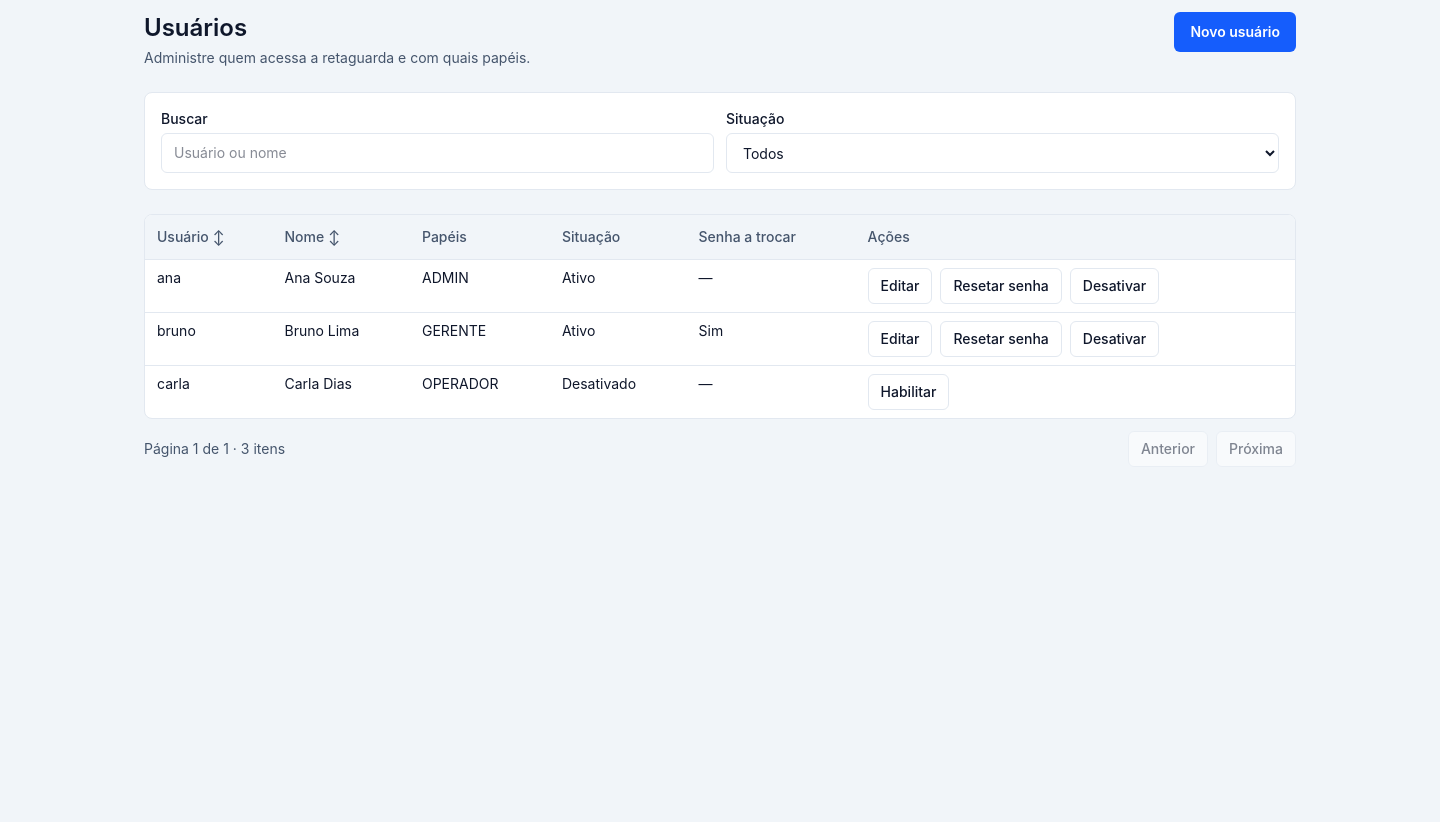
Test case: UsersPage — desativar e habilitar › mostra o 409 do último ADMIN ativo e recarrega a lista
Expected: the cell "ana" is shown, x1=145 y1=260 x2=272 y2=312
Click the button with aria-label "Desativar ana".
click(1114, 286)  # box x1=1070 y1=268 x2=1159 y2=304
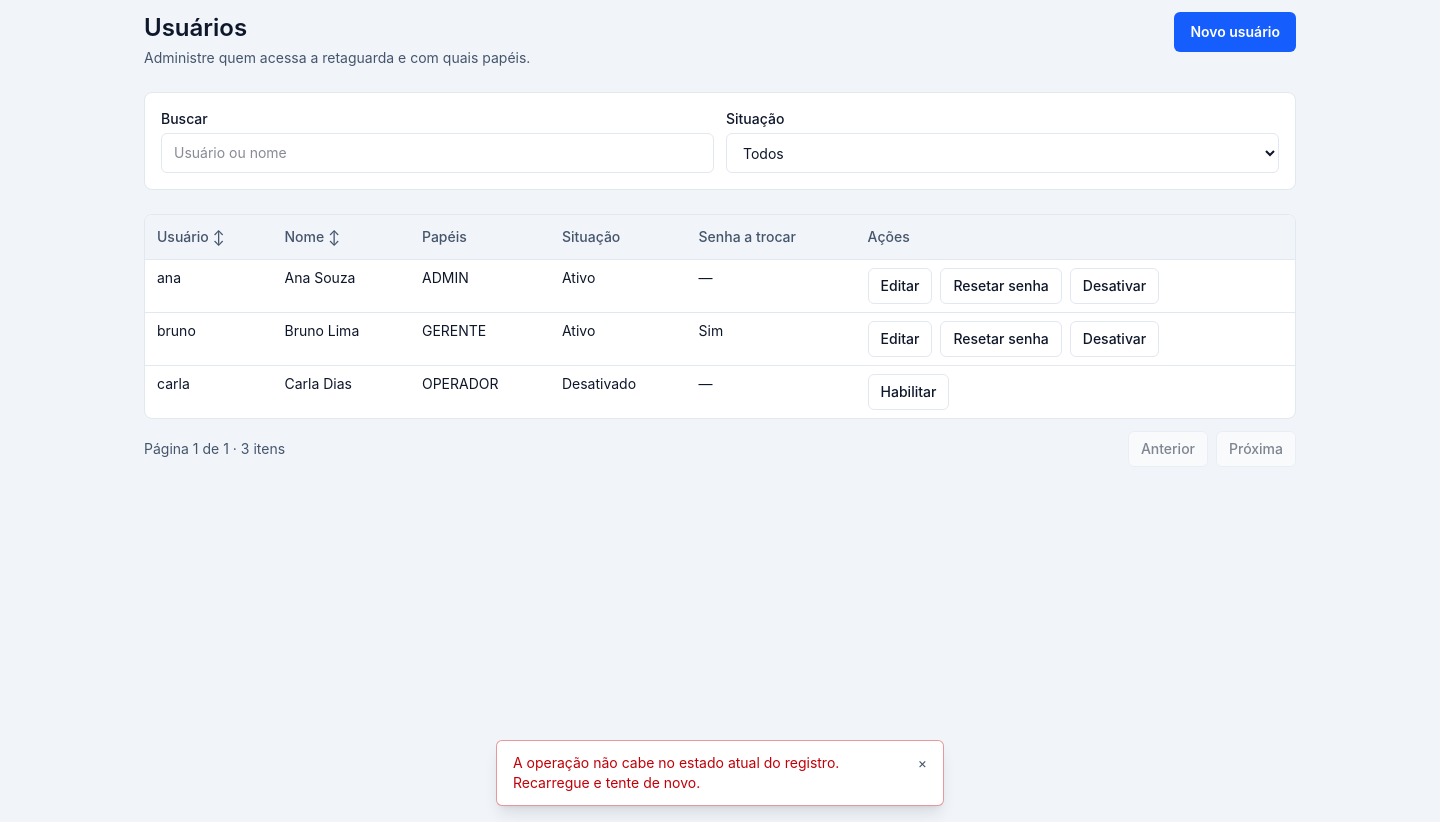
Expected: the text "A operação não cabe no estado atual do registro. Recarregue e tente de novo." is shown, x1=513 y1=754 x2=839 y2=791
